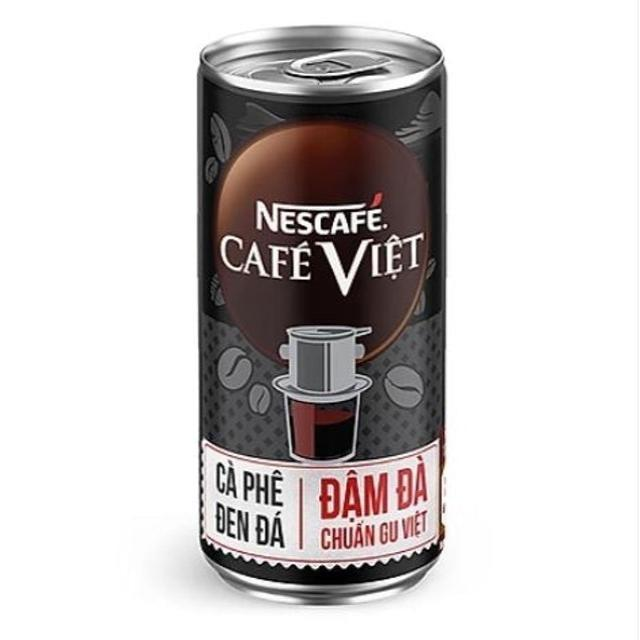can: (197, 26, 446, 607)
